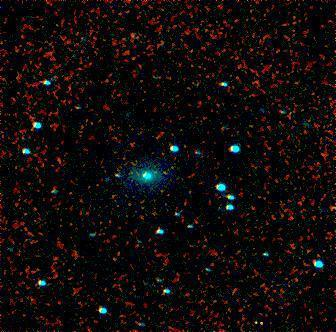star: (245, 309, 275, 332)
